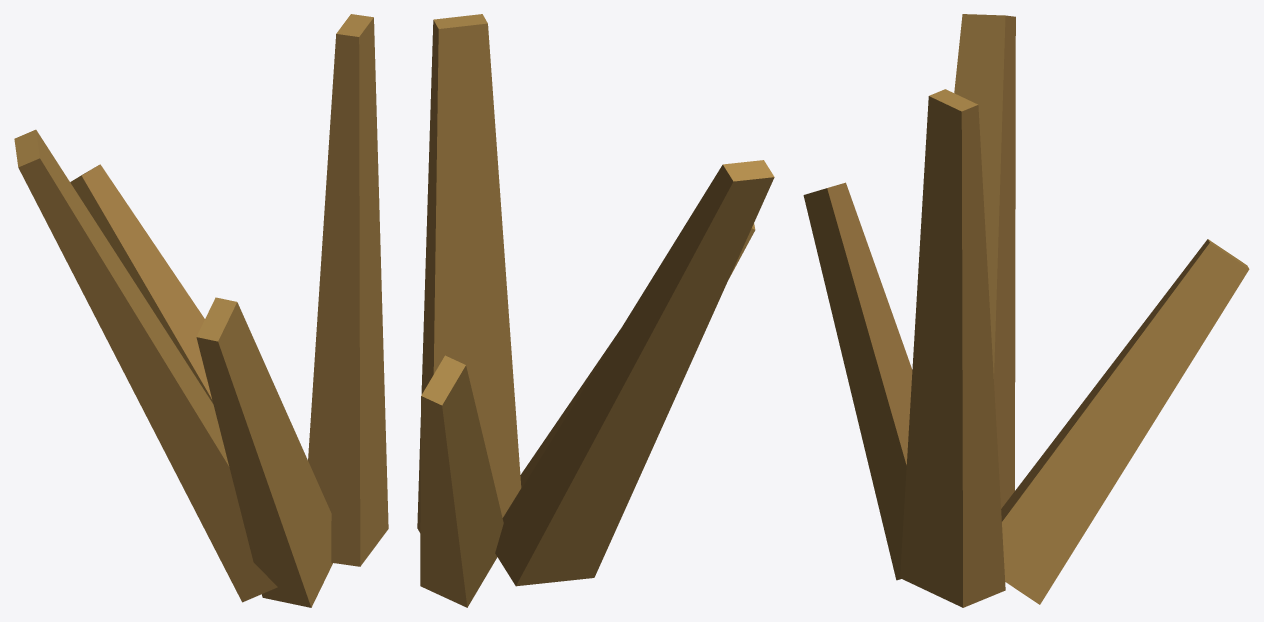
The model's file is SA_Prop_GrassSmallDry_01.glb.
3 renders of one model, left to right at view 1: azimuth 30°, elevation 25°; view 2: azimuth 150°, elevation 25°; view 3: azimuth 270°, elevation 25°, orthographic. The views are drawn at different scales.
Visible parts, largest first — view 1: SA_Prop_GrassSmallDry_01; view 2: SA_Prop_GrassSmallDry_01; view 3: SA_Prop_GrassSmallDry_01.
Part boxes in pixels (box(x1,y1,x2,y2)): SA_Prop_GrassSmallDry_01: box(14, 14, 388, 607); SA_Prop_GrassSmallDry_01: box(417, 14, 774, 607); SA_Prop_GrassSmallDry_01: box(803, 14, 1249, 607).
Size of the model in its own units: 0.188 by 0.2695 by 0.2096.
1 material, 1 textured.
